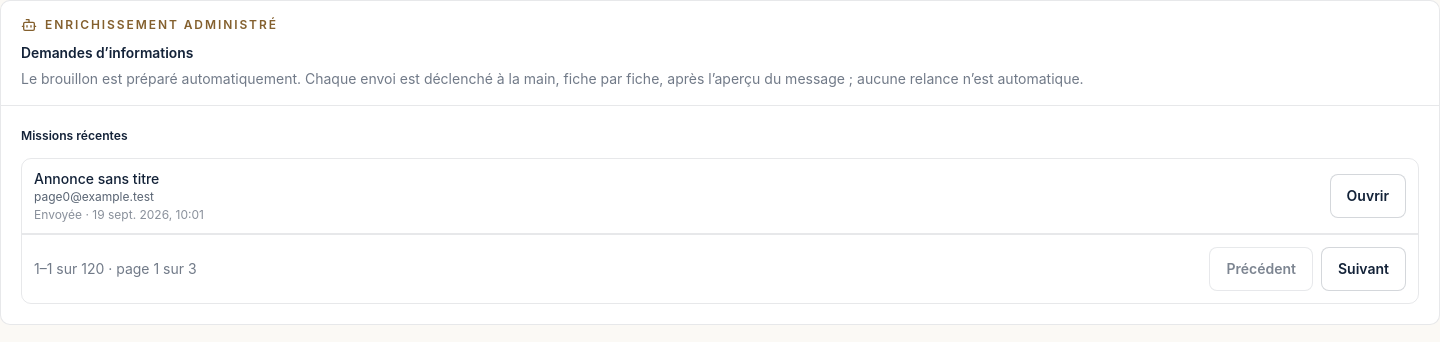
Test: AdminInformationAgentMissionsPanel › pages the history 50 missions at a time with offset/limit and the exact total
The width and height of the screenshot is (1440, 342).
Expected: the text "page0@example.test" is shown, 34,189 -> 154,204
Expected: the text "1–1 sur 120 · page 1 sur 3" is shown, 34,259 -> 197,279
Click the button with aria-label "Suivant — missions récentes" at (1364, 269), box 1321,247 -> 1406,291
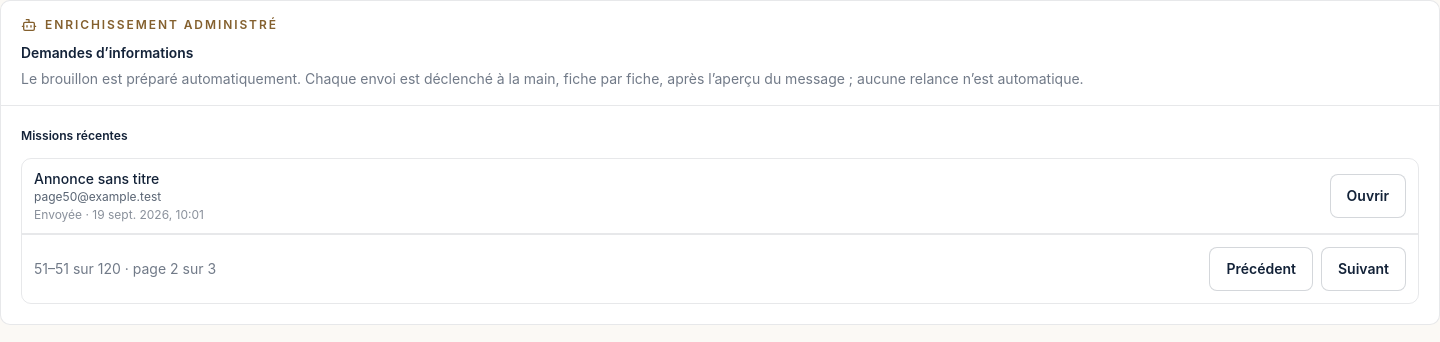
Expected: the text "page50@example.test" is shown, 34,189 -> 161,204
Click the button with aria-label "Précédent — missions récentes" at (1261, 269), box 1210,247 -> 1313,291
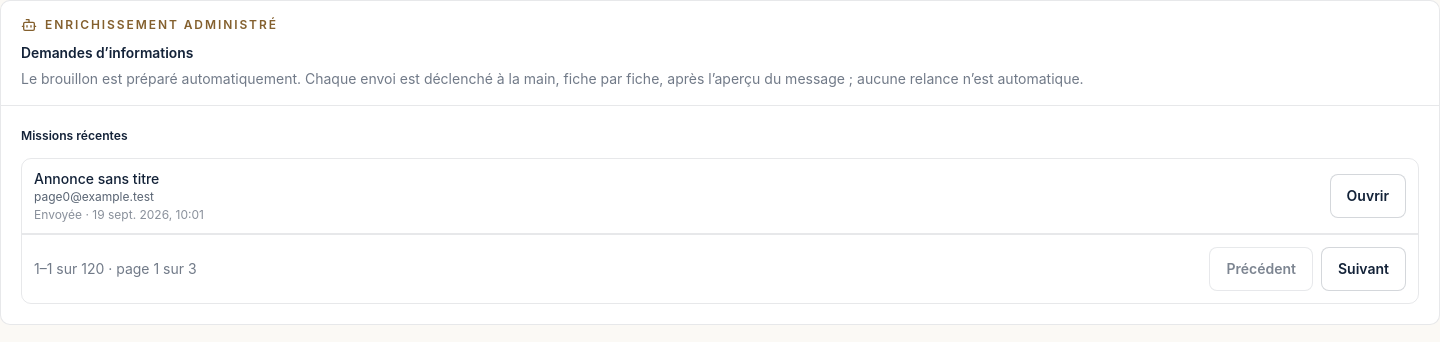
Expected: the text "page0@example.test" is shown, 34,189 -> 154,204
